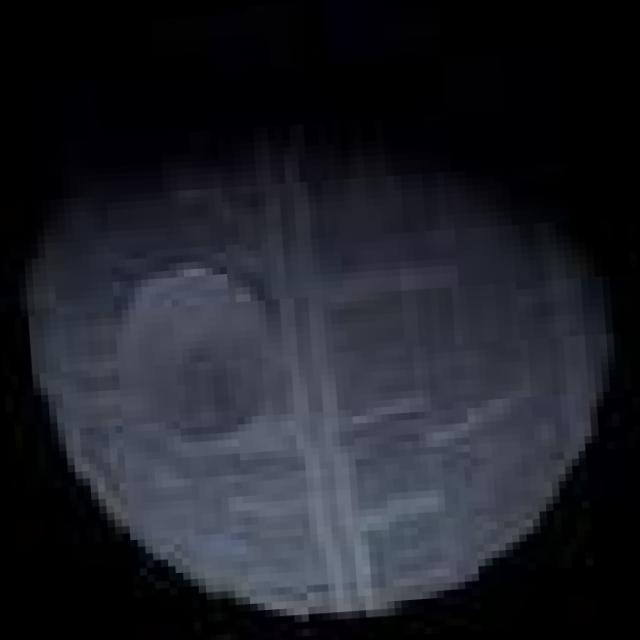Death Star: (2, 109, 633, 640)
